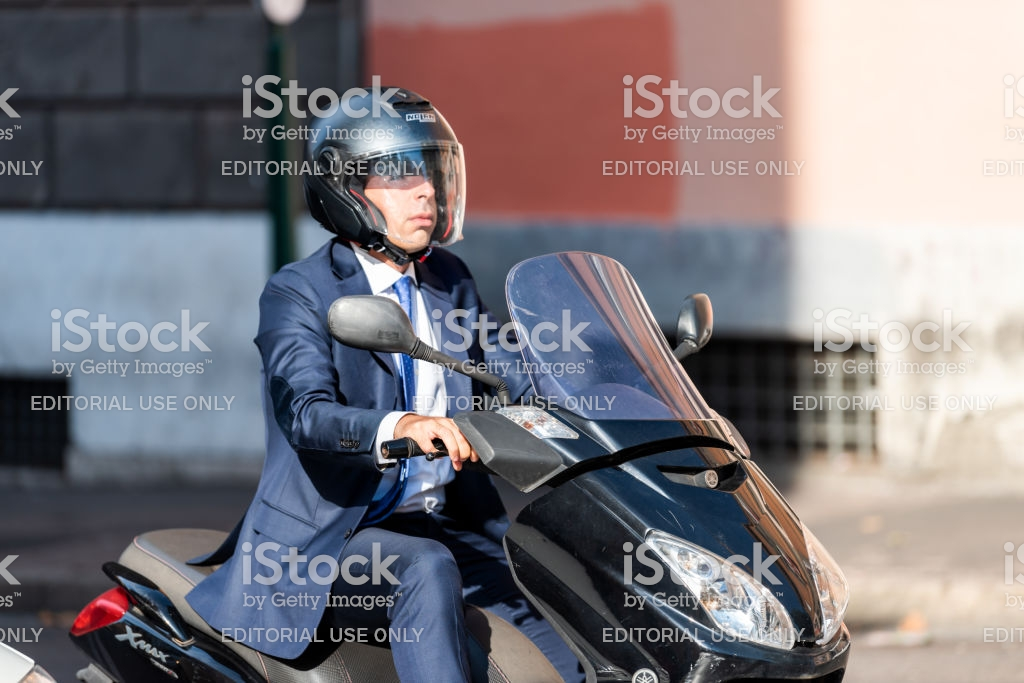helmet: (287, 88, 484, 252)
